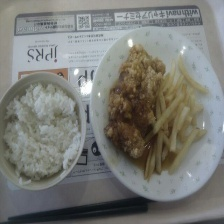rice: (0, 79, 85, 189)
